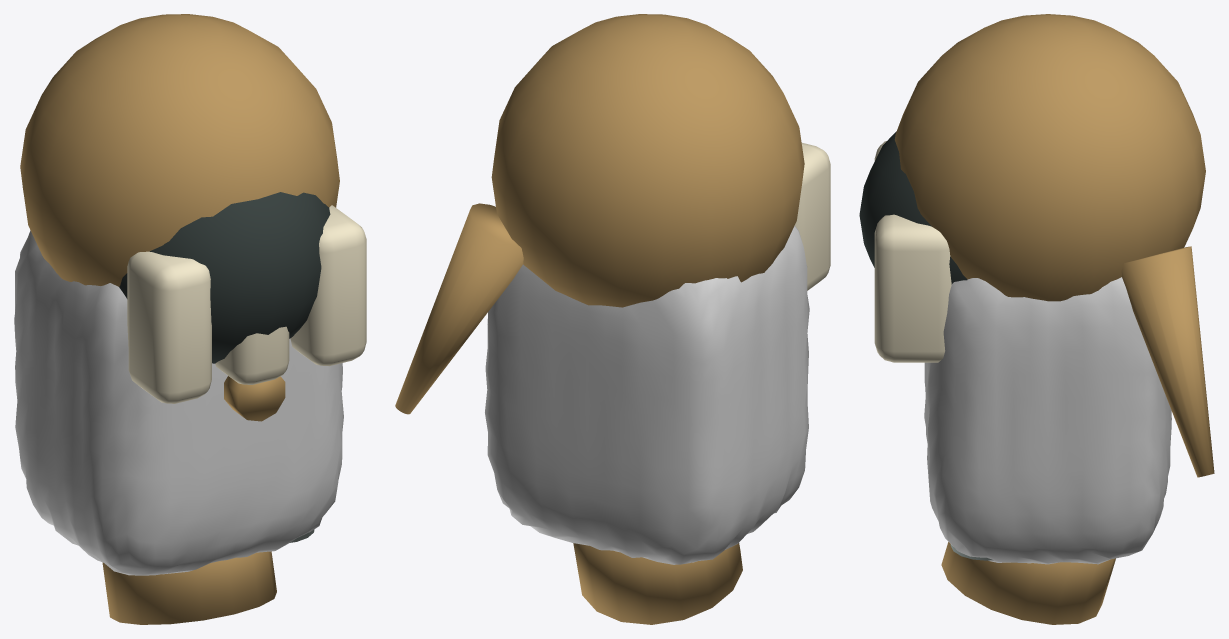
File: hotshot-arm-1.glb
The picture shows the model from 3 angles, left to right: view 1: azimuth 30°, elevation 25°; view 2: azimuth 150°, elevation 25°; view 3: azimuth 270°, elevation 25°; orthographic projection. The views are drawn at different scales.
Parts seen in each view (by area): view 1: lower_clay, upper_brass, hand_ivory, hand_mechanism, lower_brass; view 2: lower_clay, upper_brass, lower_brass, hand_ivory; view 3: upper_brass, lower_clay, lower_brass, hand_ivory, hand_mechanism.
Boxes of the visible parts, bbox=[...] form: lower_clay: bbox=[14, 230, 343, 575]; upper_brass: bbox=[20, 14, 339, 286]; hand_ivory: bbox=[127, 205, 366, 403]; hand_mechanism: bbox=[119, 192, 330, 363]; lower_brass: bbox=[102, 376, 285, 624]; lower_clay: bbox=[485, 225, 809, 564]; upper_brass: bbox=[491, 14, 804, 307]; lower_brass: bbox=[395, 203, 742, 624]; hand_ivory: bbox=[794, 143, 830, 290]; upper_brass: bbox=[894, 14, 1205, 301]; lower_clay: bbox=[924, 277, 1171, 564]; lower_brass: bbox=[941, 246, 1214, 624]; hand_ivory: bbox=[874, 141, 951, 362]; hand_mechanism: bbox=[859, 131, 967, 284].
Size of the model in its own units: 0.409 by 0.725 by 0.4047.
